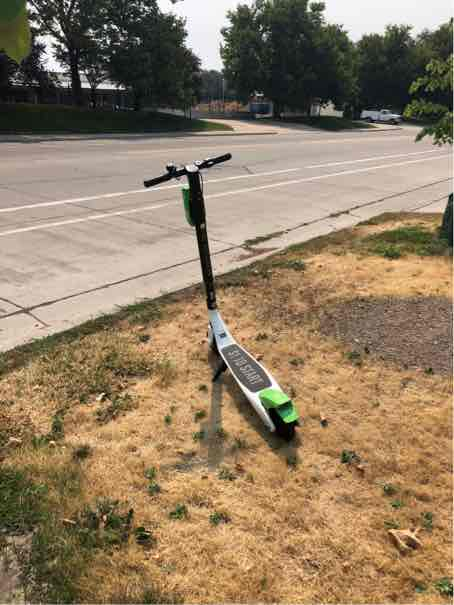scooter: (124, 148, 319, 450)
